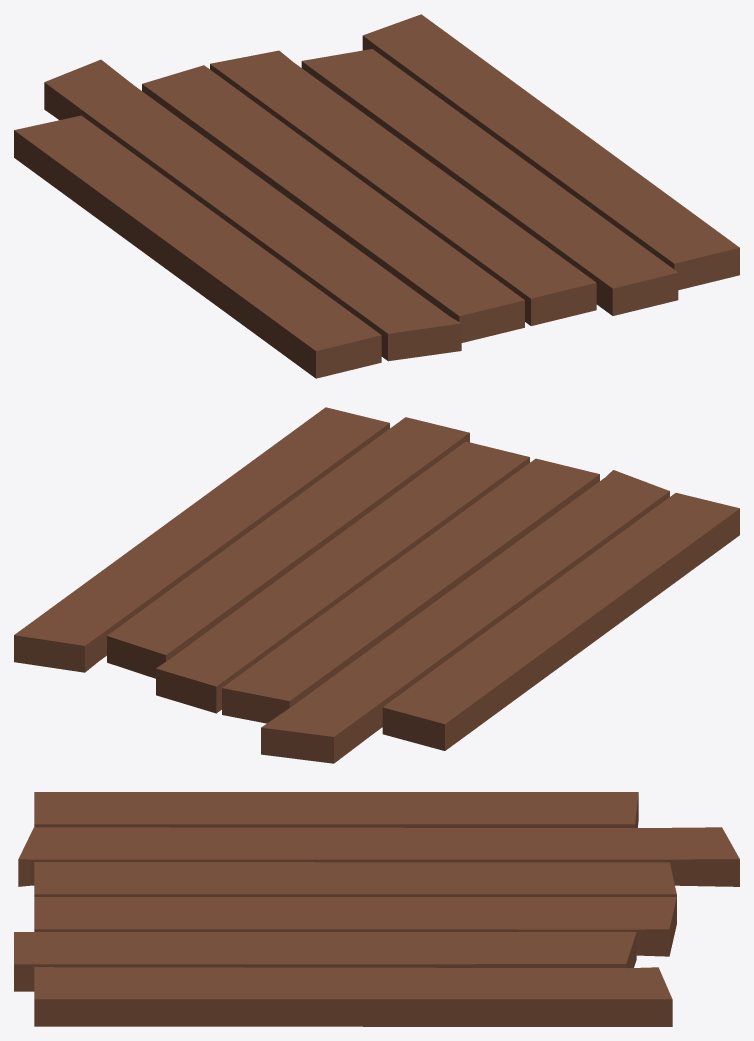
The model's file is LPWarPack_PlankBoards3.fbx.
3 views of the same model, one above another, from view 1: azimuth 30°, elevation 25°; view 2: azimuth 150°, elevation 25°; view 3: azimuth 270°, elevation 25° (orthographic). The views are drawn at different scales.
Visible parts, largest first — view 1: PlankBoards3; view 2: PlankBoards3; view 3: PlankBoards3.
Boxes of the visible parts, x1=… form: PlankBoards3: x1=14, y1=14, x2=739, y2=378; PlankBoards3: x1=14, y1=407, x2=739, y2=763; PlankBoards3: x1=14, y1=792, x2=739, y2=1026.
Size of the model in its own units: 84.18 by 5.24 by 125.
